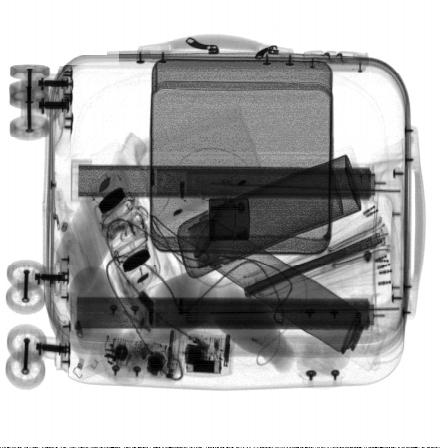Lighter: (209, 198, 250, 241)
Sprayer: (193, 217, 387, 374)
